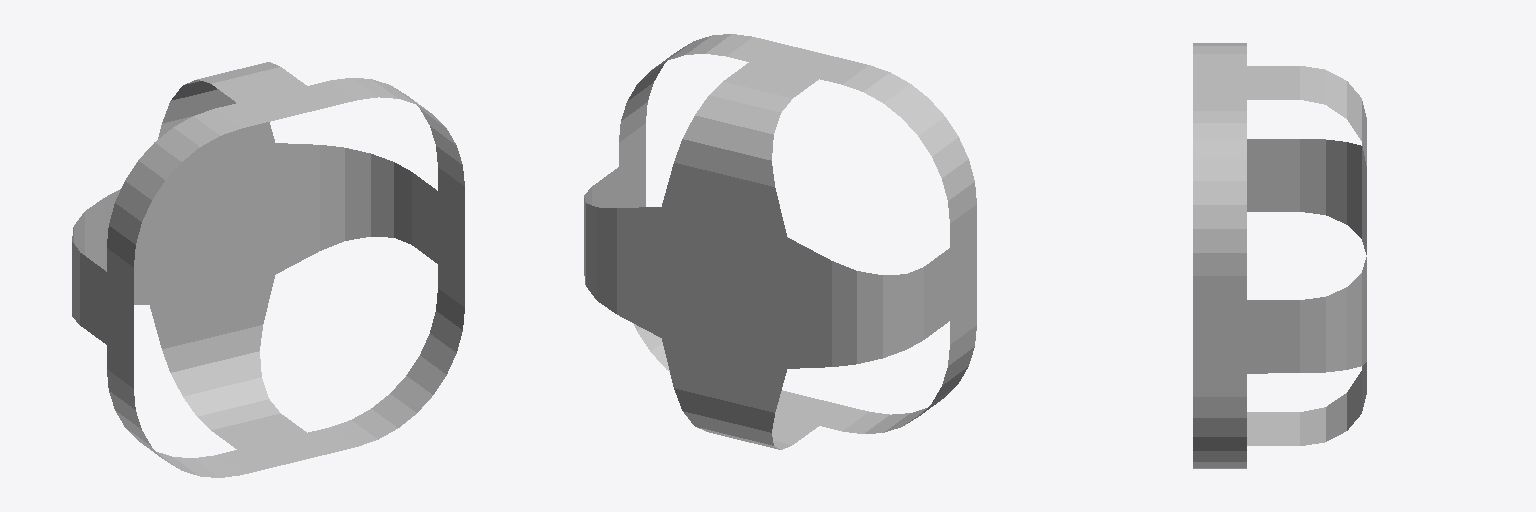
File: basketB.obj
3 views of the same model, side by side, from view 1: azimuth 30°, elevation 25°; view 2: azimuth 150°, elevation 25°; view 3: azimuth 270°, elevation 25° (orthographic).
Parts seen in each view (by area): view 1: Plane; view 2: Plane; view 3: Plane.
Part boxes in pixels (x1,y1,x2,y2): Plane: (72, 62, 464, 477); Plane: (584, 34, 976, 449); Plane: (1193, 43, 1366, 468).
Bounding box in the file's own units: 5.26 × 5.26 × 2.39.